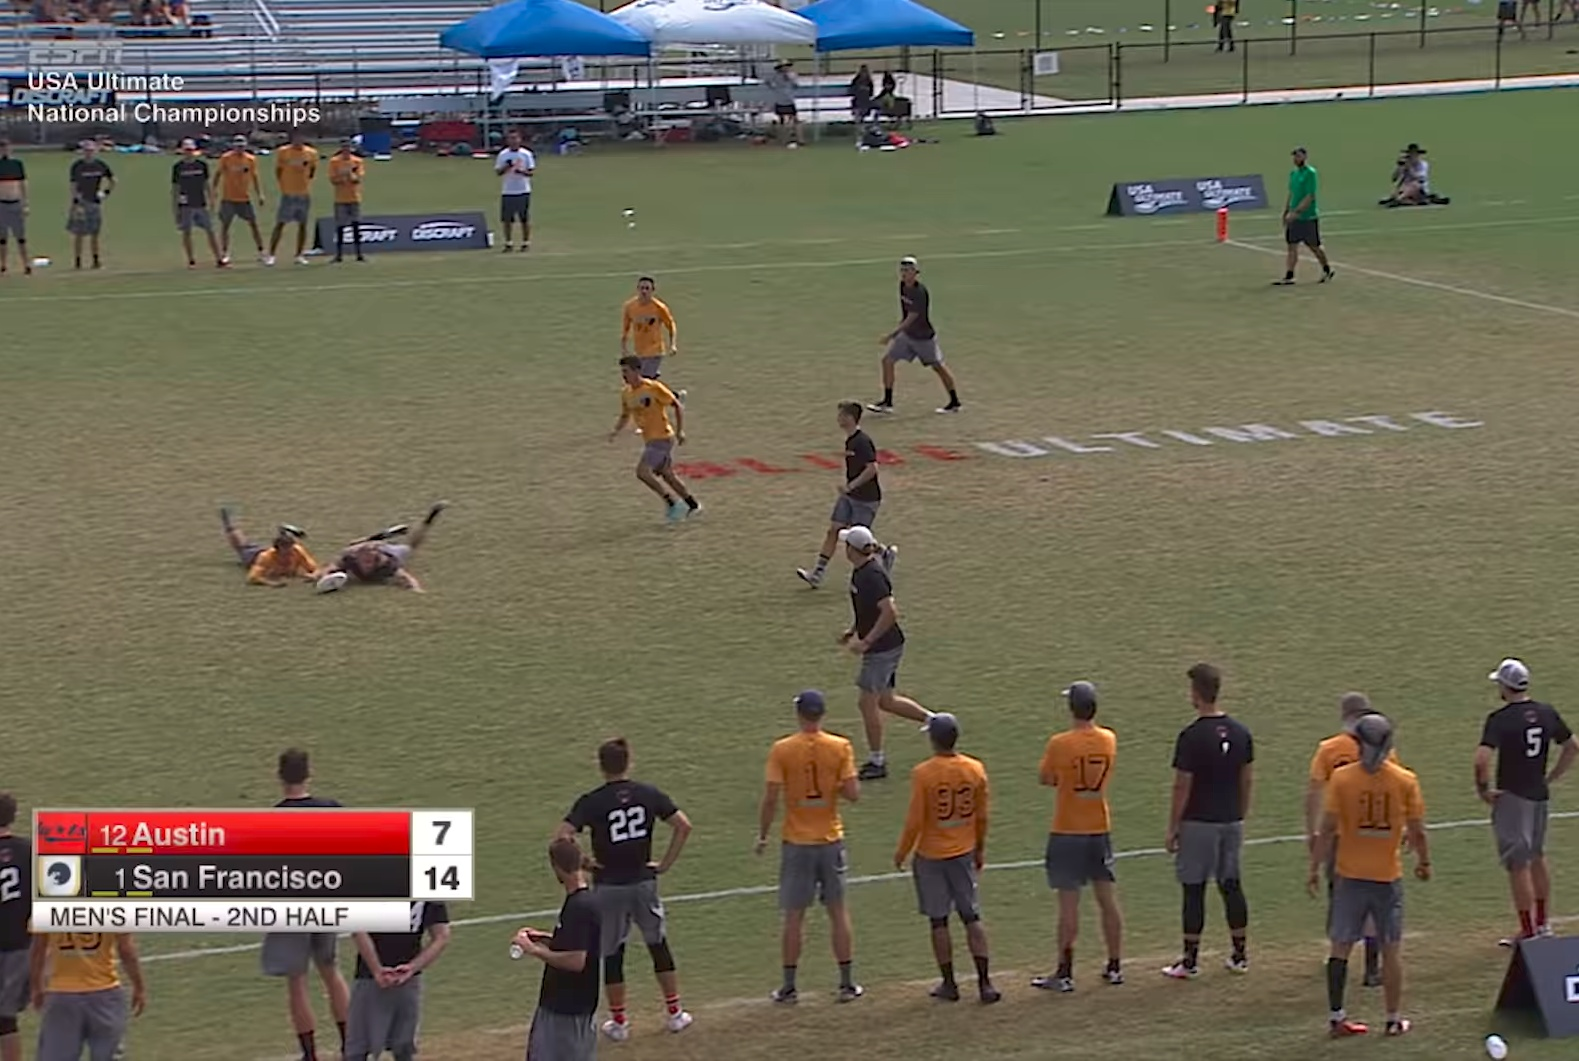frisbee: (316, 573, 344, 590), (473, 152, 492, 159), (374, 154, 391, 161), (879, 144, 896, 150)
